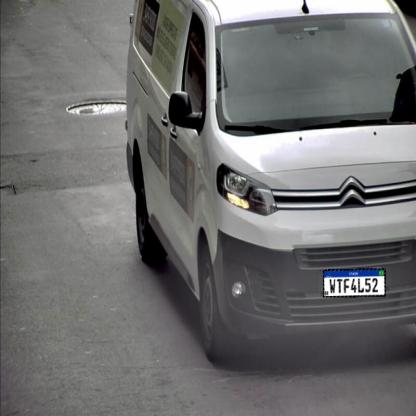PlacaM: (323, 268, 386, 298)
